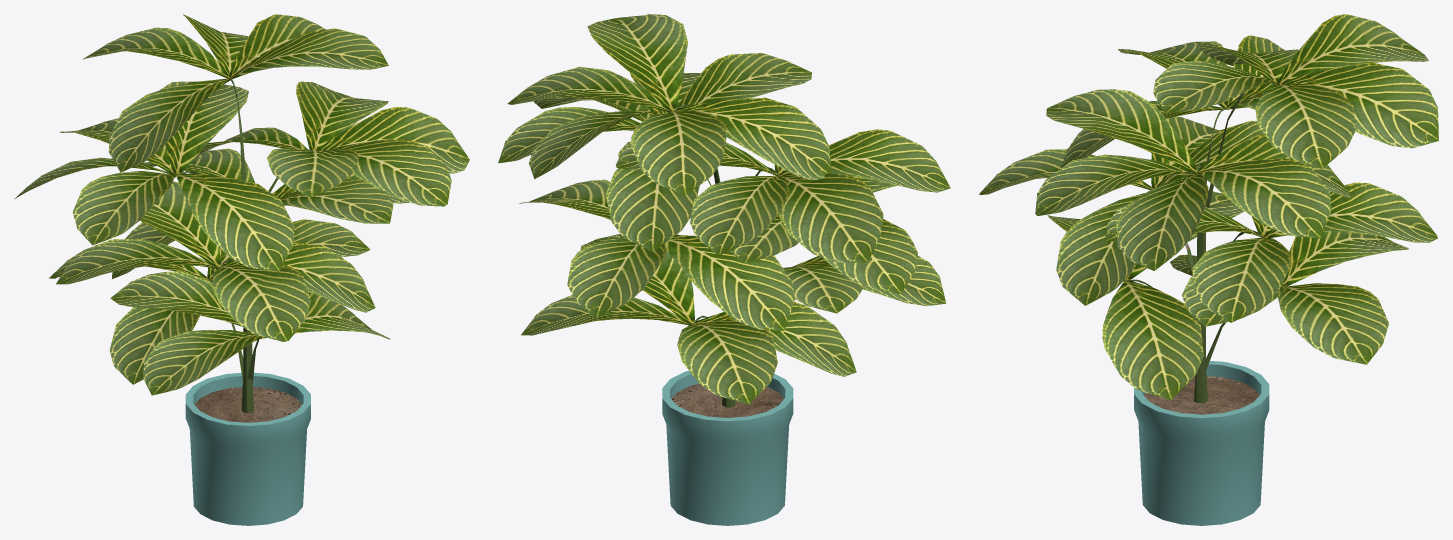
The model's file is Plant.FBX.
3 renders of one model, left to right at view 1: azimuth 30°, elevation 25°; view 2: azimuth 150°, elevation 25°; view 3: azimuth 270°, elevation 25°, orthographic. The views are drawn at different scales.
Visible parts, largest first — view 1: Plant; view 2: Plant; view 3: Plant.
Part boxes in pixels (left/top/right/bottom): Plant: left=14, top=14, right=469, bottom=525; Plant: left=498, top=14, right=950, bottom=525; Plant: left=979, top=14, right=1438, bottom=525.
Bounding box in the file's own units: 49.8 × 53.39 × 47.71.
1 material, 1 textured.
